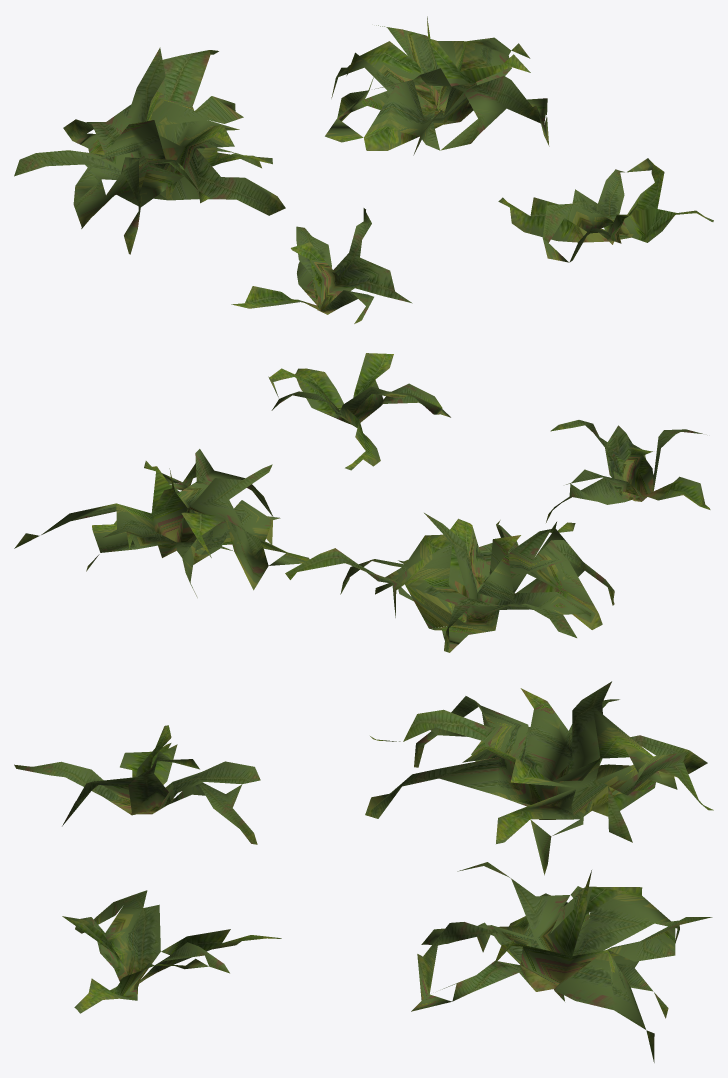
The model's file is fern_02.glb.
3 renders of one model, top to bottom at view 1: azimuth 30°, elevation 25°; view 2: azimuth 150°, elevation 25°; view 3: azimuth 270°, elevation 25°, orthographic. The views are drawn at different scales.
Visible parts, largest first — view 1: fern_02_b, fern_02_c, fern_02_d, fern_02_a; view 2: fern_02_b, fern_02_c, fern_02_d, fern_02_a; view 3: fern_02_b, fern_02_c, fern_02_a, fern_02_d.
Boxes of the visible parts, <box> form: fern_02_b: <box>14,47,285,254</box>; fern_02_c: <box>325,16,549,155</box>; fern_02_d: <box>498,158,713,262</box>; fern_02_a: <box>231,208,412,323</box>; fern_02_b: <box>285,513,614,652</box>; fern_02_c: <box>14,449,309,597</box>; fern_02_d: <box>268,353,450,470</box>; fern_02_a: <box>546,420,710,522</box>; fern_02_b: <box>365,681,713,875</box>; fern_02_c: <box>411,862,712,1062</box>; fern_02_a: <box>14,725,260,844</box>; fern_02_d: <box>62,890,281,1013</box>.
Size of the model in its own units: 1.86 by 0.4075 by 1.69.
Materials: 1 (1 with a texture image).
